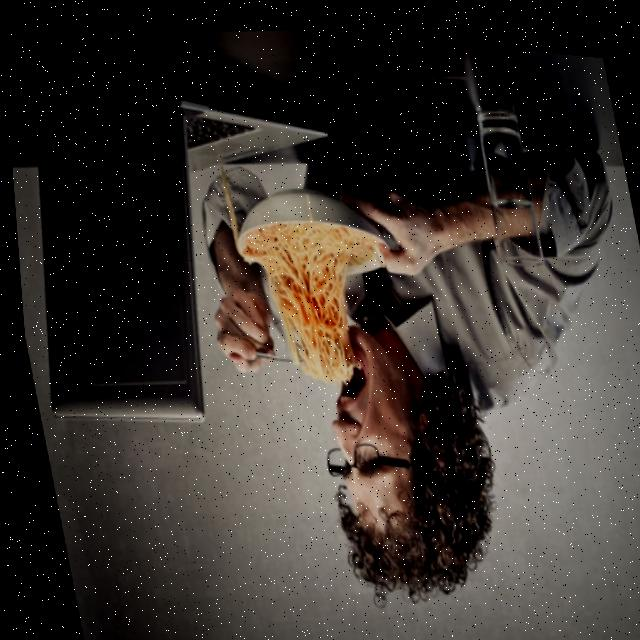eating-person: (155, 32, 640, 640)
